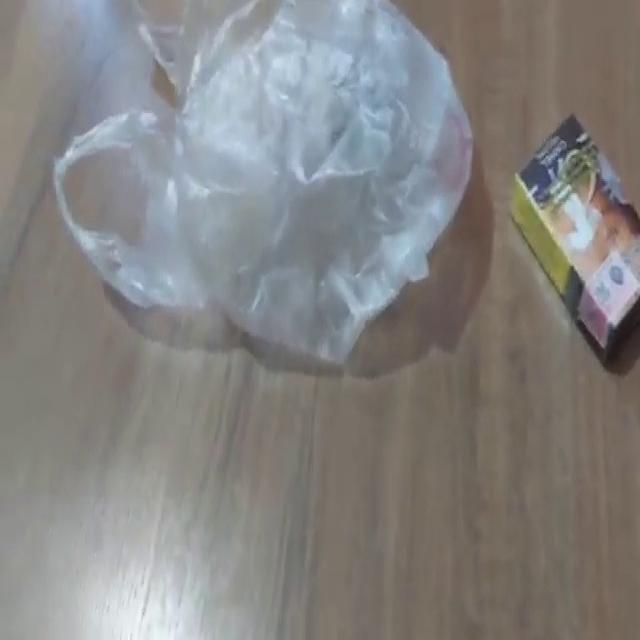Anorganik: (51, 2, 480, 372)
Organik: (506, 106, 640, 376)
